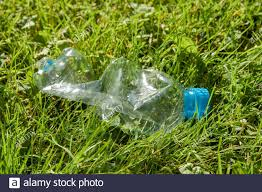plastic_bottle: (37, 50, 213, 137)
